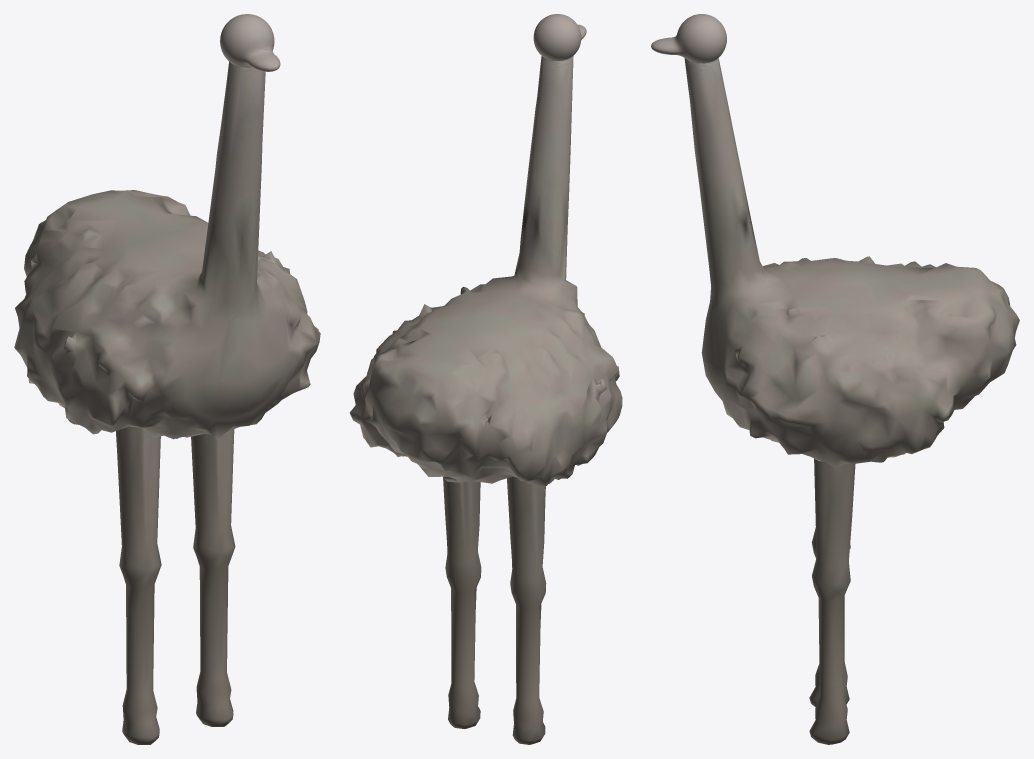
Rendered from animal_rhea.glb.
The picture shows the model from 3 angles, left to right: view 1: azimuth 30°, elevation 25°; view 2: azimuth 150°, elevation 25°; view 3: azimuth 270°, elevation 25°; orthographic projection. The views are drawn at different scales.
Visible parts, largest first — view 1: animal_rhea, leg0, leg1, head; view 2: animal_rhea, leg0, leg1, head; view 3: animal_rhea, leg1, head.
Boxes of the visible parts, box(x1,y1,x2,y2) form: animal_rhea: box(14, 61, 320, 439); leg0: box(116, 426, 161, 744); leg1: box(191, 429, 235, 726); head: box(220, 14, 280, 71); animal_rhea: box(349, 56, 622, 485); leg0: box(507, 477, 546, 744); leg1: box(443, 476, 481, 728); head: box(533, 14, 586, 60); animal_rhea: box(684, 58, 1019, 467); leg1: box(809, 459, 855, 744); head: box(651, 14, 726, 63).
Bounding box in the file's own units: 0.2636 × 0.796 × 0.3747.
1 material, 1 textured.
